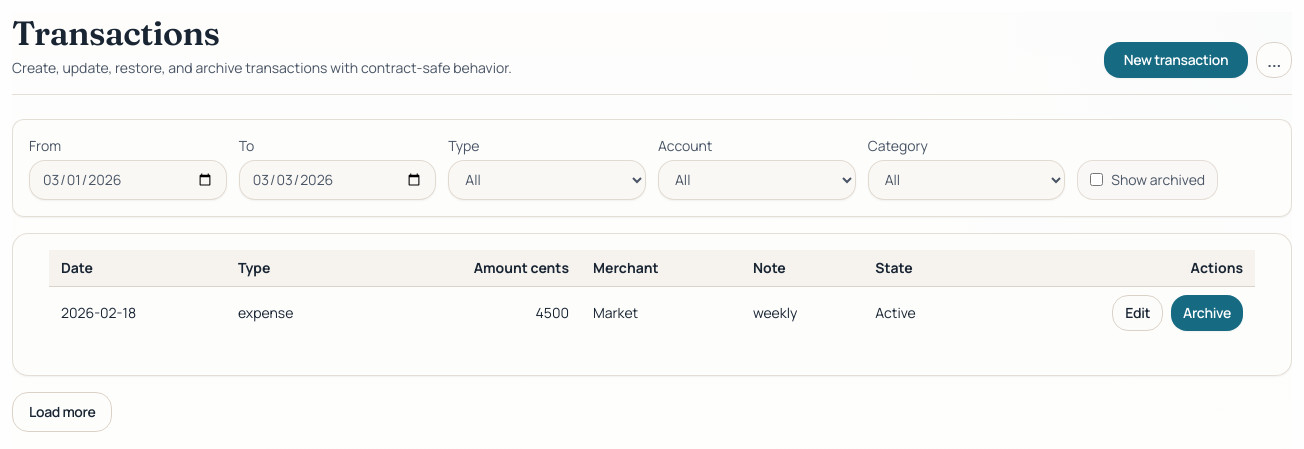
Test: TransactionsPage › loads additional transactions with cursor
expect the text "Market" is shown: met, box [581,286,741,339]
Step 1. Click the button "Load more" → click(62, 412), box [12,392,112,432]
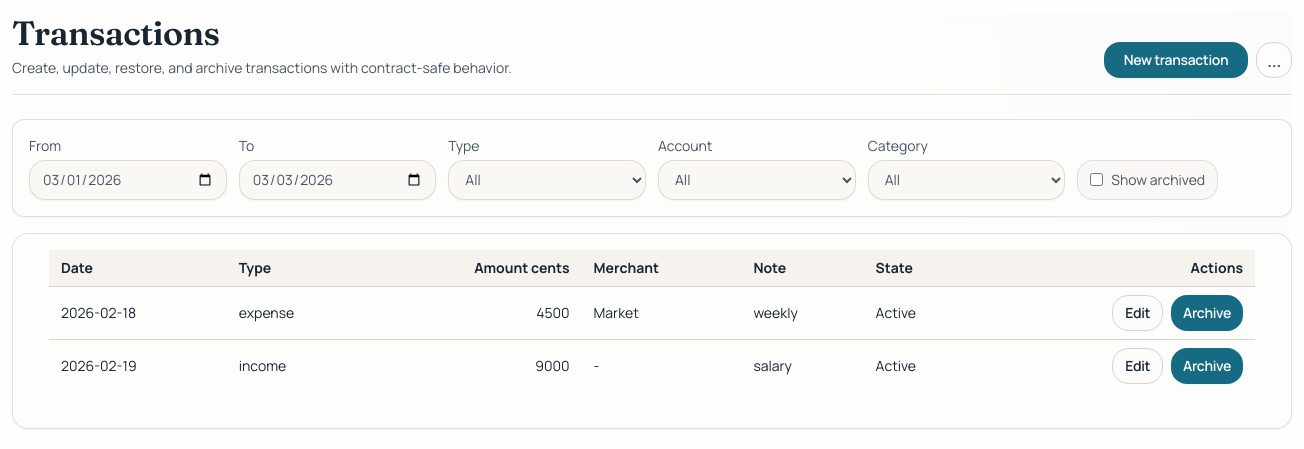
expect the text "salary" is shown: met, box [741,340,864,392]
